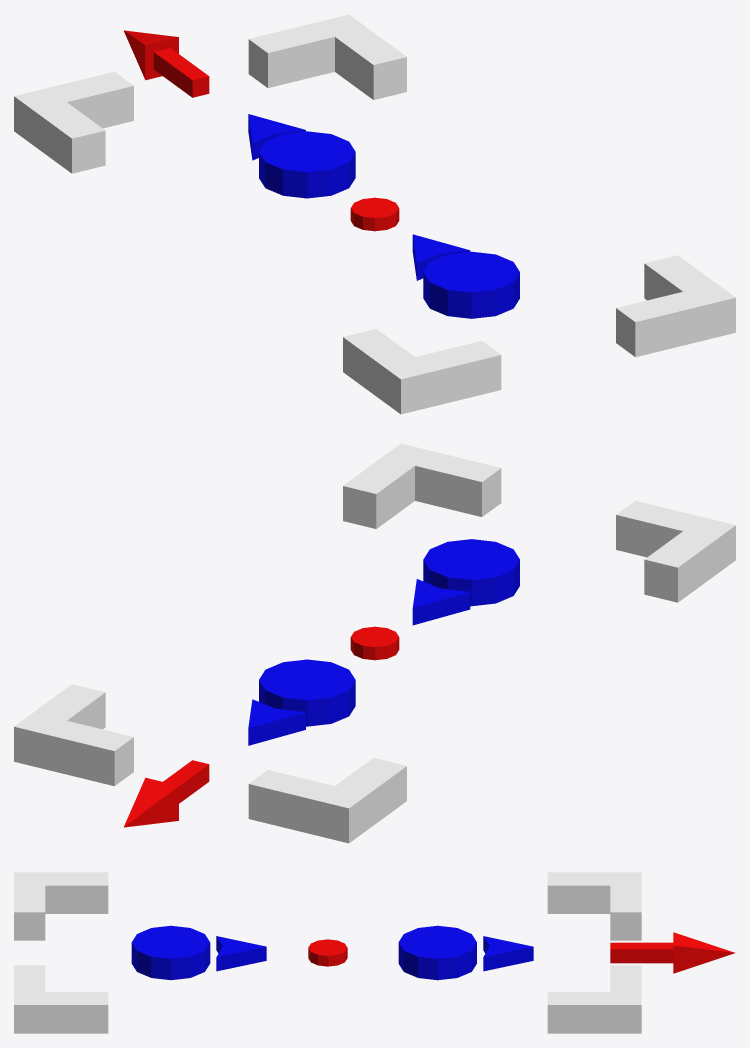
3 renders of one model, top to bottom at view 1: azimuth 30°, elevation 25°; view 2: azimuth 150°, elevation 25°; view 3: azimuth 270°, elevation 25°, orthographic. The views are drawn at different scales.
Visible parts, largest first — view 1: sl_i_frame_Cube.003, Plane.015_Plane.025, Plane.013_Plane.023, arrow_Cube.004, Plane.014_Plane.024; view 2: sl_i_frame_Cube.003, Plane.015_Plane.025, Plane.013_Plane.023, arrow_Cube.004, Plane.014_Plane.024; view 3: sl_i_frame_Cube.003, Plane.015_Plane.025, Plane.013_Plane.023, arrow_Cube.004, Plane.014_Plane.024.
Boxes of the visible parts, bbox=[...] form: sl_i_frame_Cube.003: bbox=[14, 14, 735, 414]; Plane.015_Plane.025: bbox=[412, 234, 519, 318]; Plane.013_Plane.023: bbox=[248, 114, 355, 198]; arrow_Cube.004: bbox=[123, 30, 209, 97]; Plane.014_Plane.024: bbox=[350, 197, 399, 231]; sl_i_frame_Cube.003: bbox=[14, 443, 735, 843]; Plane.015_Plane.025: bbox=[412, 539, 519, 625]; Plane.013_Plane.023: bbox=[248, 659, 355, 745]; arrow_Cube.004: bbox=[123, 760, 209, 827]; Plane.014_Plane.024: bbox=[350, 626, 399, 660]; sl_i_frame_Cube.003: bbox=[14, 872, 641, 1033]; Plane.015_Plane.025: bbox=[131, 925, 266, 980]; Plane.013_Plane.023: bbox=[398, 925, 533, 980]; arrow_Cube.004: bbox=[610, 932, 734, 973]; Plane.014_Plane.024: bbox=[308, 939, 347, 966].
Size of the model in its own units: 2 by 0.2 by 4.6.
